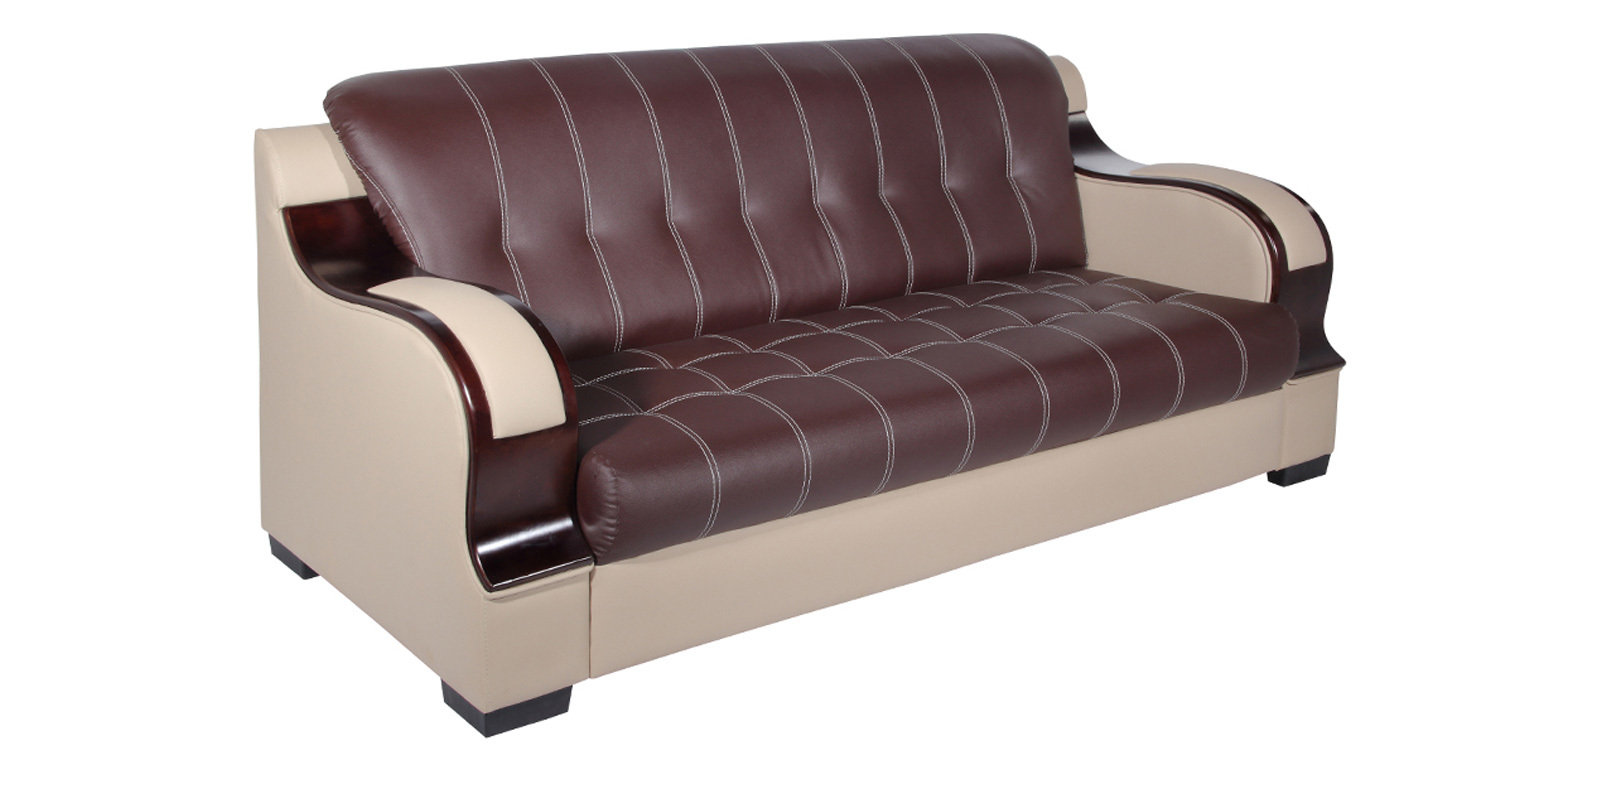Bella Three Seater Sofa in Brown Leatherette by Furniture Mind: (237, 22, 1359, 707)
